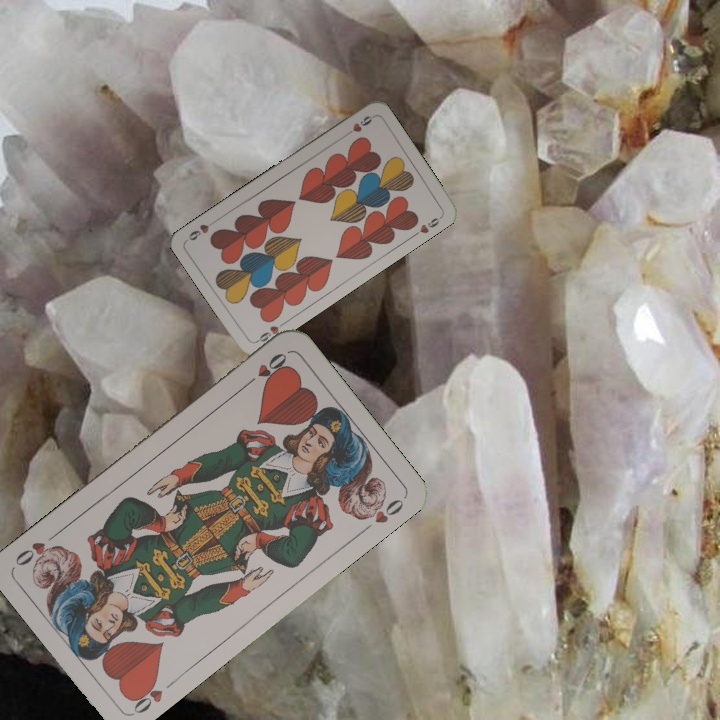H9: (340, 111, 376, 139), (252, 318, 288, 345)
HO: (240, 348, 290, 390), (125, 674, 166, 717)
